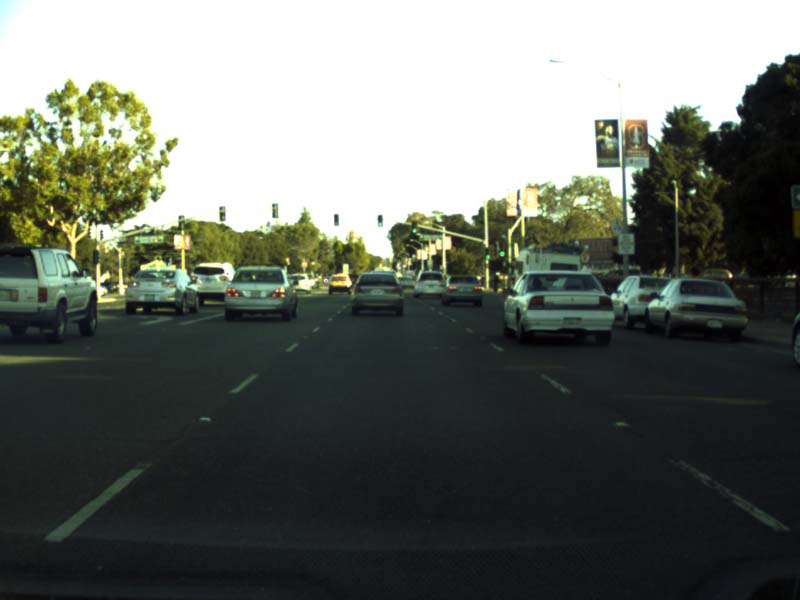Green: (499, 242, 505, 257), (411, 220, 417, 234), (484, 248, 491, 260), (377, 213, 383, 226), (333, 213, 339, 226)
